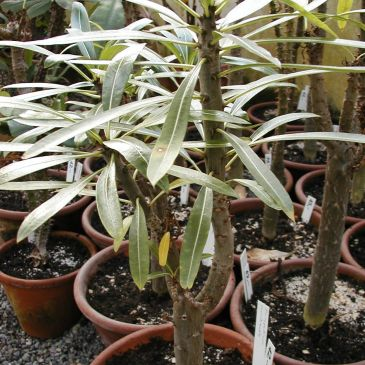Pachypodium meridionale: (157, 7, 233, 355), (298, 18, 362, 333)
